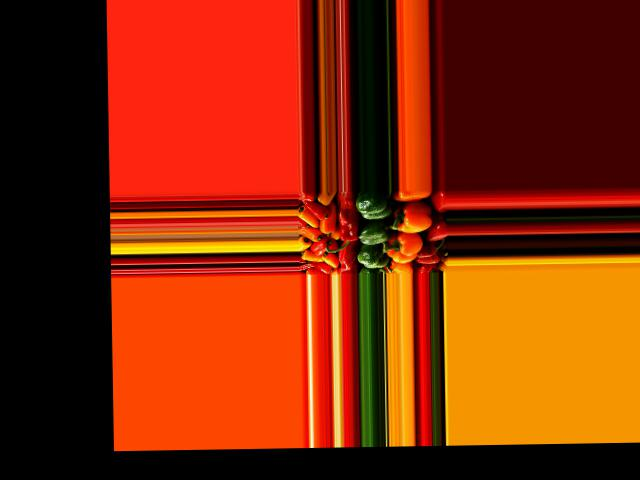bell_pepper: (301, 198, 329, 220)
